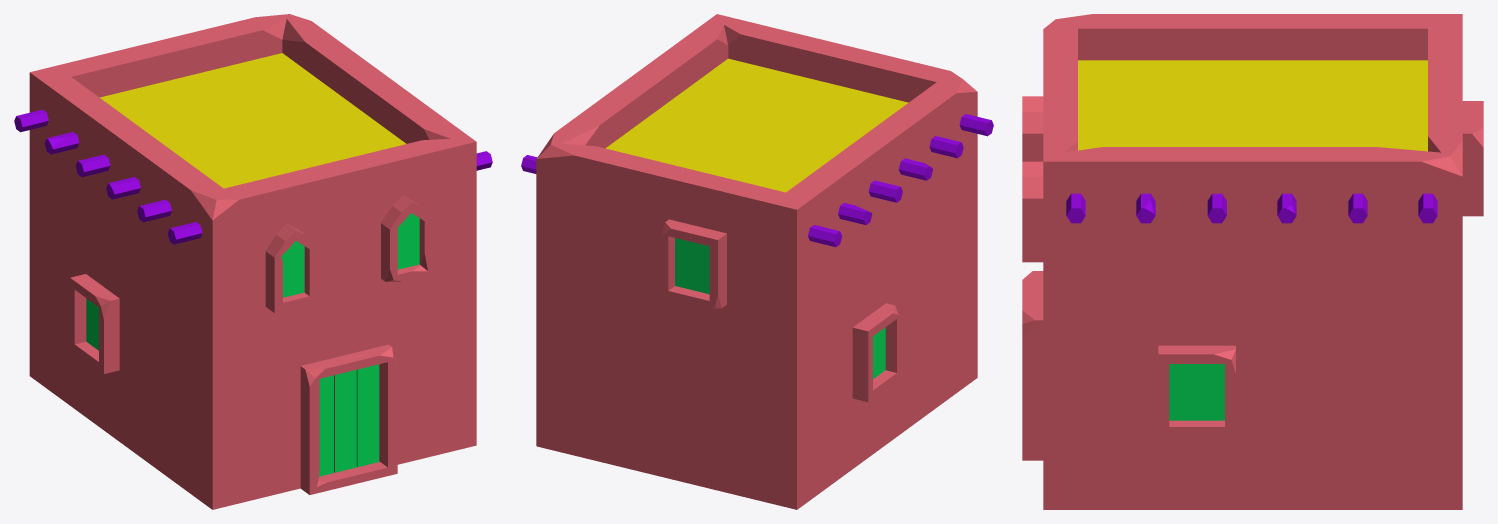
Rendered from decoration-house-small-egypt.fbx.
3 renders of one model, left to right at view 1: azimuth 30°, elevation 25°; view 2: azimuth 150°, elevation 25°; view 3: azimuth 270°, elevation 25°, orthographic. The views are drawn at different scales.
Parts seen in each view (by area): view 1: decoration-house-small-egypt; view 2: decoration-house-small-egypt; view 3: decoration-house-small-egypt.
Boxes of the visible parts, <box> form: decoration-house-small-egypt: <box>14,14,492,509</box>; decoration-house-small-egypt: <box>521,14,993,509</box>; decoration-house-small-egypt: <box>1022,14,1483,509</box>.
Bounding box in the file's own units: 6 × 5.5 × 6.6.
